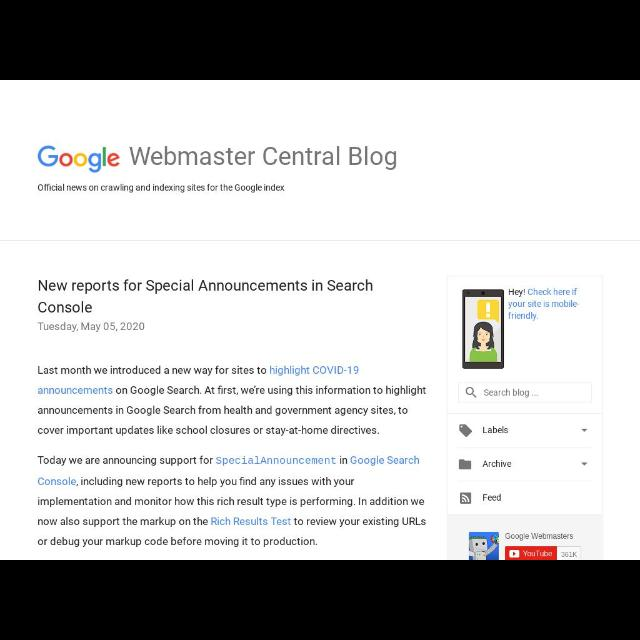icon: (459, 424, 473, 438), (460, 493, 472, 505), (464, 388, 478, 398), (458, 459, 472, 469), (510, 550, 520, 558), (580, 462, 588, 466), (581, 428, 587, 432)
image: (462, 291, 504, 369), (37, 146, 121, 174), (468, 532, 498, 560)
input: (458, 383, 590, 403)
panel: (449, 276, 603, 560)
spinner: (450, 413, 602, 447), (450, 448, 602, 480)
text: (37, 454, 429, 548), (37, 364, 429, 438), (39, 278, 377, 312), (131, 144, 397, 172), (38, 182, 286, 194), (508, 286, 582, 322), (36, 321, 146, 333), (506, 532, 576, 542), (483, 388, 539, 398), (480, 425, 512, 435), (482, 459, 512, 467), (523, 550, 553, 558), (481, 492, 503, 502), (560, 552, 578, 558)
textbutton: (505, 546, 557, 560)
